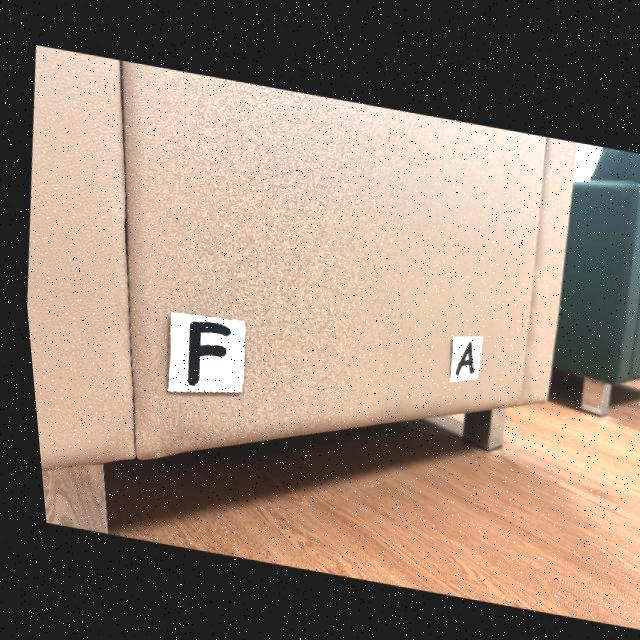A: (449, 336, 467, 369)
V: (160, 310, 239, 391), (180, 319, 224, 383)
